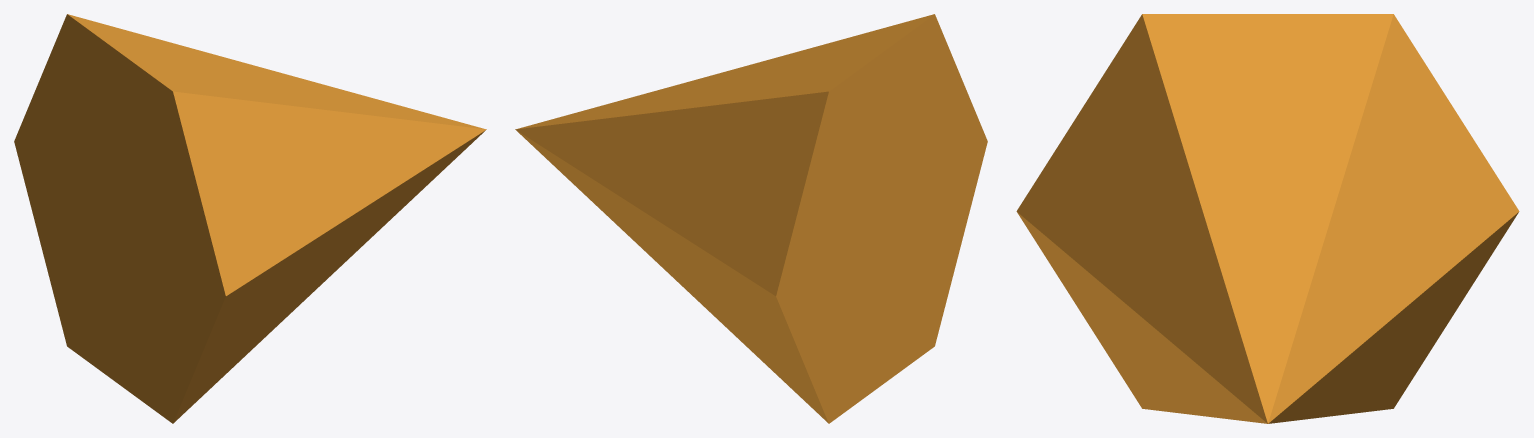
The model's file is corn.fbx.
3 renders of one model, left to right at view 1: azimuth 30°, elevation 25°; view 2: azimuth 150°, elevation 25°; view 3: azimuth 270°, elevation 25°, orthographic. The views are drawn at different scales.
Parts seen in each view (by area): view 1: 円錐; view 2: 円錐; view 3: 円錐.
Boxes of the visible parts, box(x1,y1,x2,y2) form: 円錐: box(14, 14, 486, 423); 円錐: box(515, 14, 987, 423); 円錐: box(1016, 14, 1519, 423).
Size of the model in its own units: 20 by 17.32 by 20.
